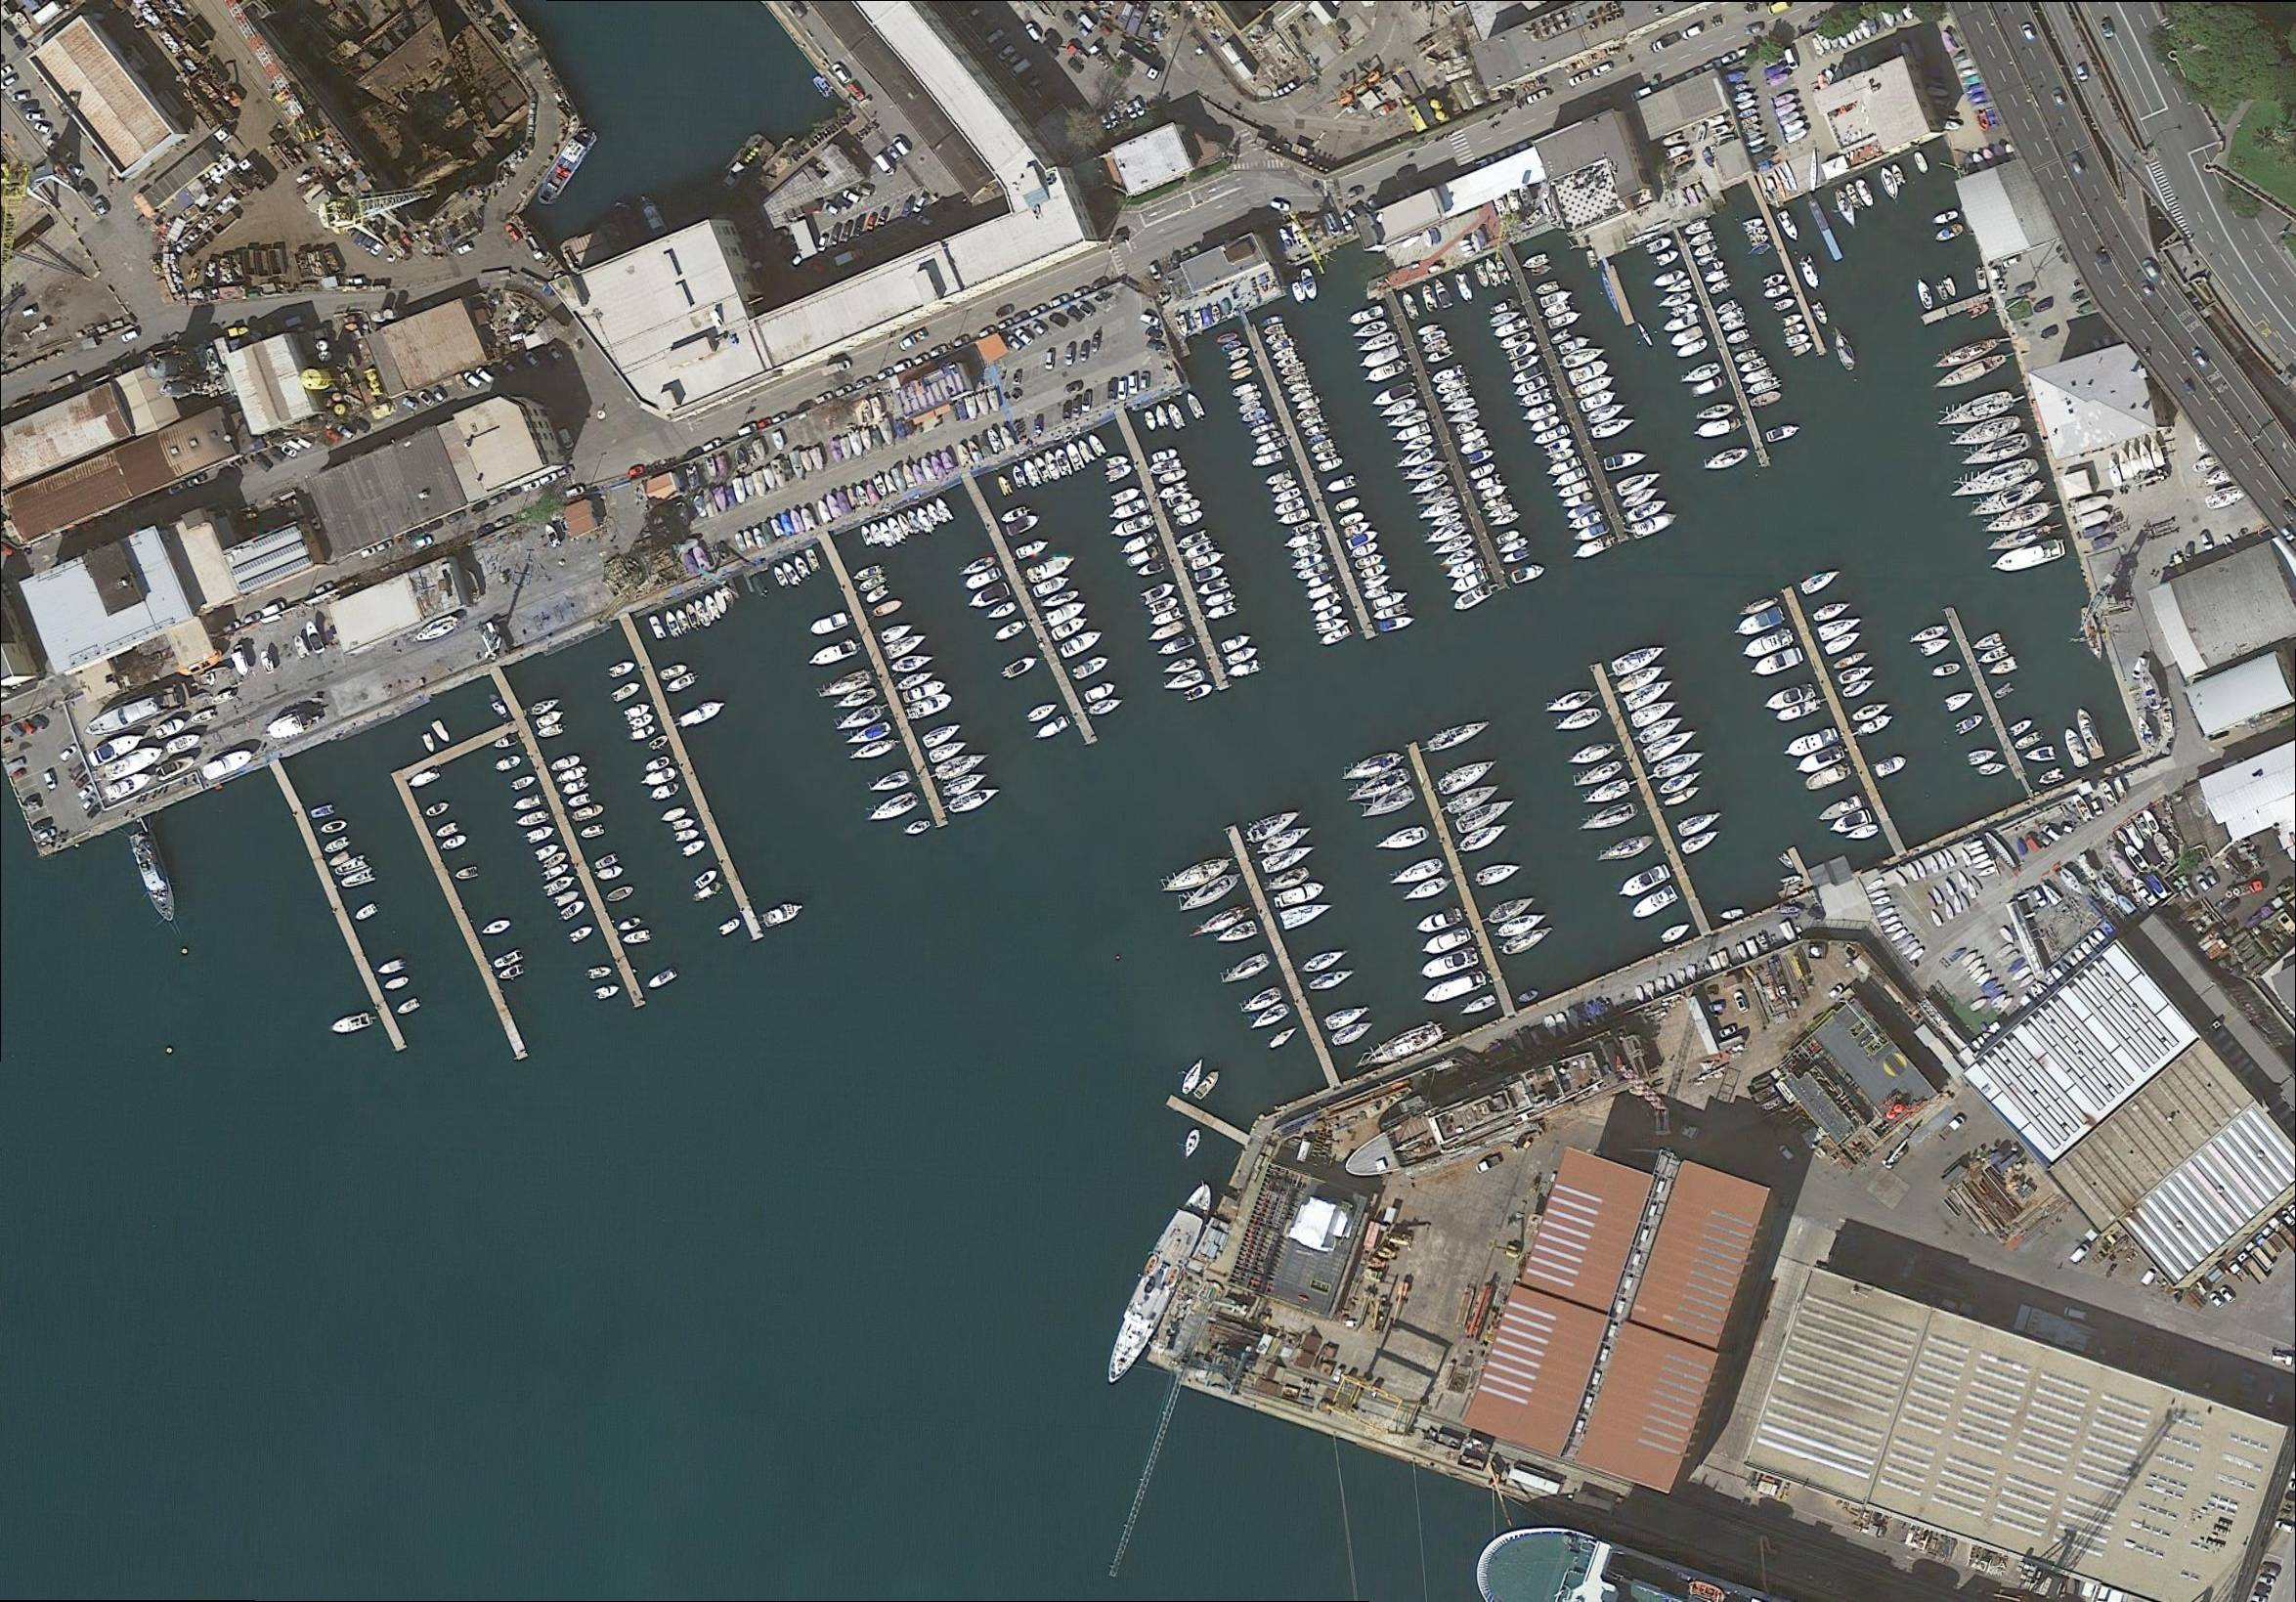harbor: (490, 668, 646, 1007), (619, 616, 764, 939), (1237, 314, 1378, 639), (267, 759, 407, 1051), (391, 771, 527, 1061), (813, 534, 946, 827), (1382, 290, 1511, 590), (1499, 248, 1628, 541), (961, 476, 1101, 745), (1774, 586, 1909, 855), (1586, 660, 1713, 939), (1401, 742, 1521, 1019), (1221, 827, 1343, 1092), (1115, 412, 1230, 688), (1670, 230, 1771, 466), (1937, 609, 2043, 803), (1746, 176, 1828, 354), (1165, 1094, 1247, 1148), (1921, 291, 1994, 326)
large vehicle: (1115, 45, 1165, 84), (2235, 1249, 2270, 1286), (1937, 1112, 1968, 1145), (2244, 1241, 2275, 1274), (42, 134, 77, 164), (2259, 1225, 2291, 1255), (1089, 44, 1118, 73), (832, 246, 865, 270), (818, 358, 853, 380), (2252, 1234, 2279, 1262), (1474, 1152, 1504, 1176), (1064, 40, 1090, 66), (2226, 1258, 2249, 1283)
ship: (1319, 1017, 1673, 1199), (1083, 1167, 1230, 1401), (119, 815, 187, 935), (79, 679, 195, 742), (1350, 1012, 1452, 1078), (532, 124, 604, 213), (1944, 452, 2050, 510), (1930, 382, 2031, 438), (1961, 469, 2059, 527), (1928, 346, 2019, 398), (1954, 424, 2043, 476), (1158, 848, 1235, 904), (1926, 326, 2013, 375), (1978, 494, 2066, 543), (1985, 534, 2074, 581), (1446, 789, 1523, 843), (1945, 410, 2029, 457), (1982, 517, 2071, 560), (1417, 967, 1492, 1017), (1417, 712, 1493, 761), (1431, 752, 1506, 801), (1570, 794, 1645, 843), (1333, 743, 1408, 792), (1185, 899, 1256, 948), (1174, 869, 1244, 918), (96, 740, 171, 785), (1343, 764, 1415, 811), (263, 698, 331, 747), (1593, 825, 1661, 874), (930, 740, 1000, 787), (1240, 798, 1310, 845), (1640, 719, 1706, 768), (860, 784, 928, 831), (1356, 784, 1424, 831), (1439, 775, 1506, 822), (1488, 902, 1555, 948), (1616, 859, 1677, 907), (1249, 817, 1317, 860), (1736, 621, 1799, 668), (1649, 740, 1712, 787), (1275, 893, 1340, 939), (1467, 852, 1532, 897), (84, 728, 150, 771), (1214, 949, 1277, 995), (1605, 639, 1673, 681), (195, 743, 262, 785), (1417, 946, 1483, 988), (1481, 887, 1542, 932), (2071, 698, 2111, 766), (813, 665, 878, 707), (1373, 820, 1438, 862), (1455, 817, 1516, 860), (1497, 920, 1558, 963), (1619, 674, 1680, 717), (1788, 742, 1851, 784), (1628, 881, 1684, 928), (1539, 681, 1602, 722), (1324, 1012, 1382, 1058), (1727, 604, 1792, 644), (1385, 853, 1450, 893), (1302, 958, 1361, 1002), (1568, 756, 1628, 799), (1270, 874, 1331, 916), (1256, 838, 1317, 880), (1746, 646, 1807, 688), (946, 780, 1008, 820), (1561, 735, 1624, 775), (1624, 504, 1684, 546), (1021, 546, 1080, 588), (1293, 941, 1354, 981), (1548, 700, 1609, 740), (1394, 874, 1457, 913), (1577, 775, 1637, 815), (2074, 600, 2109, 668), (1759, 681, 1820, 719), (1406, 904, 1467, 942), (101, 766, 159, 806), (408, 607, 466, 647), (1317, 996, 1375, 1037), (1232, 982, 1289, 1023), (1633, 709, 1691, 749), (1626, 693, 1684, 733), (1781, 726, 1844, 763), (804, 637, 864, 675), (830, 700, 890, 738), (1797, 761, 1856, 799), (1415, 925, 1474, 963), (1614, 661, 1673, 700), (1263, 859, 1317, 900), (672, 695, 728, 735), (1673, 803, 1729, 843), (1813, 791, 1870, 829), (939, 766, 998, 803), (1814, 606, 1869, 646), (1586, 410, 1642, 448), (1609, 464, 1664, 503), (757, 893, 808, 935), (1654, 763, 1712, 799), (963, 576, 1015, 616), (1056, 625, 1110, 663), (1696, 442, 1755, 476), (1207, 918, 1263, 955), (1446, 579, 1499, 618), (1260, 1021, 1309, 1061), (841, 717, 897, 752), (904, 689, 960, 724), (848, 733, 904, 768), (1794, 564, 1844, 602), (914, 717, 967, 754), (1244, 1000, 1296, 1037), (1561, 354, 1616, 389), (1555, 340, 1609, 375), (864, 766, 918, 801), (923, 733, 974, 770), (2057, 722, 2094, 773), (1366, 377, 1418, 412), (899, 674, 951, 709), (2132, 660, 2167, 712), (1581, 396, 1635, 429), (1043, 595, 1092, 632), (881, 628, 930, 665), (1028, 709, 1076, 745), (1827, 181, 1862, 232), (1773, 696, 1828, 728), (1568, 370, 1621, 403), (1354, 340, 1406, 373), (1104, 511, 1157, 544), (1068, 649, 1115, 686), (1689, 412, 1746, 442), (1399, 452, 1448, 487), (326, 1007, 380, 1038), (829, 684, 883, 715), (1568, 531, 1619, 564), (1619, 494, 1670, 527), (1827, 808, 1877, 841), (1734, 590, 1785, 623), (1188, 1063, 1227, 1106), (1391, 443, 1443, 475), (154, 749, 201, 784), (1085, 689, 1132, 724), (890, 646, 937, 681), (953, 548, 1000, 583), (1677, 356, 1725, 389), (1429, 529, 1478, 562), (1848, 695, 1896, 728), (1828, 321, 1858, 375), (1359, 356, 1410, 387), (1422, 517, 1473, 548), (1158, 667, 1209, 698), (1446, 565, 1492, 600), (1174, 1054, 1209, 1099), (1453, 989, 1499, 1024), (1809, 593, 1855, 628), (1406, 468, 1453, 501), (1678, 825, 1725, 859), (1596, 264, 1624, 319), (1415, 494, 1464, 525), (1616, 483, 1664, 515), (1183, 546, 1232, 578), (893, 663, 942, 695), (996, 651, 1040, 686), (1122, 541, 1167, 574), (1001, 508, 1047, 541), (986, 613, 1031, 646), (1823, 628, 1869, 661), (1574, 386, 1621, 417), (1441, 551, 1488, 583), (637, 761, 684, 792), (1143, 618, 1190, 649), (960, 564, 1007, 595), (1598, 445, 1650, 473), (1019, 696, 1061, 731), (1870, 750, 1912, 785), (1049, 613, 1092, 646), (1830, 644, 1874, 677), (1343, 298, 1389, 330), (1347, 312, 1392, 344), (1117, 527, 1162, 558), (1661, 782, 1706, 813), (2104, 843, 2139, 883), (1377, 394, 1424, 424), (1438, 541, 1481, 572), (1155, 632, 1199, 663), (1012, 534, 1056, 565), (1106, 497, 1151, 527), (1029, 572, 1075, 602), (806, 611, 851, 640), (1905, 620, 1951, 649), (541, 867, 581, 900), (1080, 677, 1120, 710), (1949, 707, 1989, 740), (1352, 328, 1399, 356), (150, 712, 192, 743), (1036, 585, 1083, 613), (1855, 712, 1896, 743), (1518, 398, 1561, 428), (1670, 333, 1713, 363), (1687, 372, 1731, 401), (1551, 330, 1595, 359), (1197, 585, 1240, 614), (1841, 822, 1884, 852), (1413, 482, 1459, 510), (1389, 419, 1434, 447), (1158, 653, 1204, 681), (1303, 590, 1349, 618), (1214, 628, 1254, 660), (1174, 524, 1214, 555), (876, 616, 916, 647), (1657, 918, 1698, 949), (1530, 421, 1572, 450), (1647, 262, 1689, 291), (1534, 283, 1575, 312), (162, 728, 204, 757), (1136, 579, 1178, 609), (1221, 640, 1263, 670), (1317, 623, 1359, 653), (1492, 314, 1535, 342), (1664, 321, 1708, 349), (1385, 405, 1429, 433), (338, 864, 382, 892), (1145, 606, 1188, 633), (1225, 656, 1268, 684), (1296, 262, 1324, 305), (2132, 712, 2160, 756), (1300, 578, 1343, 606), (1940, 684, 1977, 717), (2120, 839, 2153, 876), (1691, 398, 1739, 422), (1548, 462, 1588, 492), (405, 763, 445, 792), (1841, 674, 1881, 703), (1514, 384, 1556, 412), (1542, 452, 1584, 480), (1563, 508, 1605, 536), (1652, 286, 1694, 314), (1659, 307, 1701, 335), (1542, 305, 1584, 333), (529, 705, 571, 733), (1762, 421, 1804, 448), (1295, 557, 1336, 585), (984, 595, 1021, 626), (1289, 548, 1333, 574), (1773, 204, 1802, 243), (687, 874, 726, 904), (1179, 679, 1218, 709), (1511, 372, 1551, 400), (1527, 410, 1567, 438), (1874, 161, 1902, 201), (333, 852, 373, 880), (1143, 593, 1183, 621), (1132, 558, 1172, 586), (1097, 462, 1138, 490), (1179, 539, 1220, 567), (897, 815, 937, 843), (1837, 660, 1877, 688), (194, 661, 234, 689), (1370, 585, 1410, 613), (1281, 529, 1326, 553), (2053, 864, 2087, 897), (1506, 361, 1548, 387), (1797, 250, 1823, 291), (555, 893, 590, 925), (302, 616, 328, 658), (1202, 599, 1244, 625), (1165, 496, 1207, 522), (994, 501, 1036, 527), (1251, 433, 1293, 459), (663, 668, 701, 696), (489, 946, 527, 974), (1106, 482, 1145, 510), (1343, 525, 1382, 553), (1192, 576, 1235, 600), (1453, 267, 1479, 307), (1500, 339, 1541, 365), (1486, 304, 1527, 330), (1506, 560, 1546, 586), (1570, 518, 1610, 544), (1148, 455, 1188, 482), (1188, 562, 1228, 588), (530, 836, 565, 866), (609, 675, 644, 705), (1429, 274, 1457, 311), (1647, 246, 1684, 274), (1425, 508, 1467, 532), (1397, 433, 1439, 457), (1931, 218, 1968, 246), (553, 761, 595, 785), (1851, 173, 1879, 209), (644, 963, 680, 991), (869, 595, 905, 623), (2010, 726, 2047, 754), (1429, 359, 1467, 386), (1563, 497, 1602, 524), (647, 778, 686, 804), (546, 749, 584, 775), (229, 640, 255, 679), (1157, 476, 1195, 503), (1340, 515, 1378, 541), (874, 412, 900, 450), (509, 804, 553, 827), (2129, 878, 2160, 909), (1555, 476, 1595, 501), (1434, 372, 1474, 396), (1439, 393, 1479, 417), (1912, 274, 1937, 314), (1275, 504, 1315, 529), (1640, 232, 1675, 260), (420, 796, 455, 824), (525, 693, 562, 719), (438, 829, 475, 855), (1162, 489, 1199, 515), (1985, 654, 2022, 681), (1963, 743, 1999, 770), (1289, 391, 1326, 417), (1267, 475, 1303, 501), (1443, 405, 1485, 428), (1373, 599, 1415, 621), (1377, 613, 1418, 635), (1481, 291, 1520, 316), (1560, 487, 1598, 511), (850, 560, 888, 585), (1916, 635, 1954, 660), (1179, 1124, 1204, 1162), (1748, 387, 1787, 412), (1272, 494, 1310, 518), (691, 593, 715, 632), (1322, 471, 1361, 496), (1302, 567, 1340, 592), (2142, 871, 2174, 900), (677, 834, 712, 860), (619, 696, 654, 722), (539, 857, 574, 883), (1183, 387, 1209, 422), (1841, 178, 1867, 213), (487, 688, 513, 722), (862, 583, 897, 609), (644, 609, 670, 644), (1263, 464, 1298, 490), (1288, 541, 1328, 564), (1309, 602, 1349, 625), (1312, 614, 1352, 637), (1506, 351, 1542, 375), (1539, 435, 1575, 459), (1478, 490, 1514, 515), (1516, 248, 1553, 272), (522, 820, 558, 845), (1164, 396, 1188, 433), (623, 709, 659, 733), (1171, 508, 1207, 532), (1970, 630, 2006, 654), (1064, 438, 1089, 475), (912, 501, 937, 537), (565, 918, 597, 946), (1743, 375, 1785, 396), (567, 801, 605, 824), (476, 916, 515, 939), (661, 606, 684, 644), (591, 977, 625, 1003), (431, 817, 464, 843), (429, 714, 455, 747), (2003, 712, 2036, 738), (1687, 225, 1720, 251), (1417, 279, 1441, 314), (1422, 342, 1457, 366), (1464, 459, 1499, 483), (1488, 506, 1523, 531), (1659, 274, 1694, 298), (495, 962, 530, 986), (604, 881, 639, 906), (1021, 457, 1045, 492), (1282, 373, 1317, 398), (886, 511, 911, 546), (1331, 492, 1366, 517), (953, 438, 977, 473), (1239, 403, 1274, 428), (691, 541, 715, 576), (1249, 448, 1289, 469), (1399, 286, 1422, 323), (1497, 328, 1534, 351), (509, 791, 546, 813), (534, 719, 571, 742), (1741, 365, 1778, 387), (1270, 485, 1307, 508), (1286, 384, 1322, 407), (1296, 410, 1333, 433), (1361, 571, 1397, 593), (1288, 517, 1324, 539), (728, 469, 750, 506), (691, 864, 719, 893), (2074, 853, 2102, 883), (551, 885, 583, 911), (2122, 820, 2148, 852), (1478, 480, 1511, 504), (1471, 469, 1504, 494), (1459, 433, 1492, 457), (2034, 763, 2067, 787), (1977, 640, 2010, 665), (2071, 792, 2095, 825), (1705, 274, 1738, 298), (1720, 314, 1753, 339), (932, 494, 956, 527), (1085, 428, 1110, 461), (1336, 506, 1370, 531), (1228, 377, 1261, 401), (1471, 257, 1493, 291), (1462, 445, 1497, 468), (1528, 274, 1563, 297), (490, 729, 525, 752), (558, 777, 593, 799), (640, 752, 675, 775), (375, 955, 410, 977), (1155, 468, 1190, 490), (1052, 443, 1075, 478), (1042, 448, 1064, 483), (1300, 419, 1335, 442), (1305, 435, 1340, 457), (768, 455, 790, 490), (2095, 880, 2123, 907), (351, 899, 380, 925), (1544, 445, 1581, 466), (492, 750, 523, 775), (590, 848, 621, 873), (623, 721, 659, 742), (290, 632, 314, 663), (321, 832, 352, 857), (2097, 780, 2122, 811), (1717, 304, 1748, 328), (1736, 354, 1773, 375), (780, 557, 804, 588), (1350, 539, 1382, 564), (867, 469, 892, 501), (984, 426, 1008, 457), (1481, 255, 1504, 288), (1483, 501, 1516, 524), (658, 803, 691, 825), (256, 646, 279, 679), (857, 572, 890, 595), (701, 590, 724, 623), (1031, 454, 1054, 487), (1293, 403, 1326, 426), (998, 419, 1021, 452), (1237, 394, 1270, 417), (797, 501, 820, 534), (687, 490, 710, 524), (785, 448, 808, 482), (832, 485, 855, 518), (1495, 534, 1530, 555), (1499, 544, 1534, 565), (656, 660, 691, 681), (1930, 660, 1965, 681), (878, 517, 899, 551), (1364, 581, 1399, 602), (1359, 562, 1394, 583), (1354, 551, 1389, 572), (951, 393, 972, 428), (1247, 419, 1282, 440), (1251, 426, 1286, 447), (823, 489, 844, 524), (541, 848, 571, 873), (393, 993, 422, 1017), (1940, 272, 1965, 302), (605, 656, 637, 679), (1909, 145, 1931, 176), (614, 911, 646, 934), (1732, 346, 1764, 368), (1692, 239, 1724, 262), (923, 497, 946, 529), (790, 551, 813, 583), (769, 562, 792, 593), (1076, 435, 1099, 466), (1288, 276, 1310, 307), (963, 435, 986, 466), (860, 476, 883, 508), (888, 462, 911, 494), (1228, 363, 1260, 386), (679, 550, 701, 581), (757, 518, 780, 550), (1418, 335, 1452, 356), (1455, 424, 1488, 445), (1441, 384, 1474, 405), (666, 811, 700, 832), (318, 815, 351, 836), (1928, 206, 1961, 227), (1148, 445, 1181, 466), (682, 599, 703, 632), (1310, 445, 1343, 466), (928, 448, 949, 482), (918, 454, 939, 487), (984, 380, 1005, 414), (974, 386, 994, 419), (1235, 387, 1268, 408), (787, 506, 808, 539), (700, 485, 721, 518), (710, 482, 731, 515), (717, 913, 743, 939), (808, 75, 834, 101), (1809, 298, 1832, 328), (1413, 316, 1443, 339), (541, 522, 564, 551), (1694, 248, 1724, 270), (1270, 344, 1300, 366), (801, 546, 823, 576), (867, 424, 890, 454), (680, 461, 703, 490), (1225, 354, 1254, 377), (670, 497, 693, 527), (963, 389, 982, 424), (846, 424, 865, 459), (508, 771, 539, 792), (595, 860, 626, 881), (1101, 450, 1132, 471), (1724, 326, 1755, 347), (1760, 281, 1792, 302), (1277, 359, 1309, 380), (1281, 366, 1312, 387), (673, 606, 694, 637), (897, 508, 918, 539), (975, 429, 996, 461), (808, 442, 829, 473), (776, 510, 797, 541), (2113, 892, 2137, 918), (1254, 311, 1288, 330), (326, 846, 354, 869), (1713, 295, 1741, 318), (1492, 527, 1521, 548), (577, 820, 607, 841), (1139, 405, 1160, 435), (672, 824, 701, 845), (307, 799, 337, 820), (188, 705, 218, 726), (1888, 157, 1909, 187), (382, 972, 412, 993), (994, 469, 1015, 499), (1267, 335, 1296, 356), (1760, 269, 1790, 290), (1315, 454, 1345, 475), (843, 482, 864, 511), (836, 431, 857, 461), (1213, 326, 1242, 347), (729, 527, 750, 557), (1973, 759, 2008, 777), (1010, 461, 1029, 492), (565, 791, 597, 810), (452, 864, 483, 883), (2026, 743, 2057, 763), (712, 585, 731, 616), (858, 424, 878, 455), (714, 448, 733, 480), (748, 522, 768, 553), (750, 466, 769, 497), (761, 461, 780, 492), (799, 445, 818, 476), (2139, 810, 2163, 834), (419, 728, 440, 756), (1701, 265, 1729, 286), (1275, 351, 1303, 372), (1684, 216, 1712, 237), (1738, 215, 1766, 236), (1788, 340, 1816, 361), (857, 524, 878, 551), (748, 435, 769, 462), (621, 928, 654, 946), (1417, 326, 1446, 346), (209, 688, 239, 707), (905, 506, 925, 536), (701, 452, 721, 482), (827, 436, 846, 466), (815, 496, 834, 525), (583, 962, 614, 979), (646, 731, 672, 752), (2132, 817, 2153, 843), (1225, 342, 1251, 363), (1453, 417, 1481, 436), (1971, 264, 1991, 291), (1783, 332, 1811, 351), (1771, 295, 1799, 314), (721, 581, 740, 609), (867, 520, 886, 548), (853, 480, 872, 508), (911, 459, 930, 487), (939, 445, 958, 473), (731, 445, 750, 473), (1780, 321, 1809, 339), (900, 461, 918, 490), (1732, 991, 1752, 1017), (1780, 311, 1806, 330), (769, 426, 789, 452), (1265, 328, 1293, 346), (1745, 232, 1773, 250), (881, 468, 899, 496), (2111, 777, 2130, 801), (1220, 337, 1244, 356), (768, 517, 787, 541), (1260, 321, 1289, 337), (741, 469, 757, 499), (1153, 403, 1171, 429), (740, 525, 757, 551), (2221, 534, 2240, 557), (1743, 223, 1767, 241), (2162, 710, 2177, 736), (1935, 279, 1951, 304)
small vehicle: (2149, 832, 2179, 866), (897, 328, 930, 353), (1650, 30, 1682, 54), (258, 599, 288, 621), (829, 61, 853, 87), (872, 152, 897, 178), (2067, 1241, 2092, 1267), (1075, 7, 1099, 33), (1567, 70, 1595, 91), (1322, 211, 1343, 239), (843, 80, 867, 103), (2139, 257, 2162, 281), (311, 579, 337, 600), (1781, 45, 1802, 72), (1525, 87, 1551, 108), (803, 258, 830, 277), (890, 134, 912, 157), (2190, 347, 2212, 370), (555, 428, 577, 450), (473, 365, 497, 386), (2066, 152, 2087, 176), (502, 222, 523, 246), (1138, 311, 1164, 330), (28, 815, 54, 834), (2062, 1305, 2090, 1323), (1012, 326, 1035, 347), (1003, 333, 1026, 354), (2041, 824, 2064, 845), (2193, 873, 2216, 893), (1010, 58, 1033, 79), (1042, 30, 1064, 51), (492, 513, 516, 532), (564, 483, 590, 501), (522, 349, 543, 370), (79, 178, 99, 199), (984, 26, 1005, 47), (1040, 42, 1061, 63), (412, 532, 434, 551), (883, 145, 905, 164), (1049, 311, 1071, 330), (2097, 19, 2116, 42), (1024, 21, 1043, 44), (1630, 86, 1654, 103), (1766, 0, 1790, 17), (1680, 24, 1705, 42), (1268, 197, 1293, 215), (832, 194, 853, 213), (59, 743, 79, 764), (1075, 300, 1096, 319), (1028, 319, 1049, 339), (853, 373, 874, 393), (2024, 834, 2043, 855), (1776, 1143, 1795, 1164), (2139, 1267, 2158, 1288), (2217, 1286, 2238, 1305), (91, 197, 110, 218), (996, 42, 1017, 61), (963, 5, 984, 24), (119, 328, 141, 346), (335, 424, 358, 442), (537, 469, 560, 487), (445, 508, 468, 525), (422, 517, 445, 534), (403, 525, 426, 543), (841, 188, 864, 206), (185, 473, 208, 490), (1049, 291, 1071, 309), (21, 798, 44, 815), (37, 825, 59, 843), (626, 462, 649, 480), (701, 436, 724, 454), (736, 422, 759, 440), (832, 382, 855, 400), (3, 757, 28, 773), (7, 766, 31, 782), (1741, 21, 1766, 37), (1591, 61, 1616, 77), (771, 229, 790, 248), (417, 389, 436, 408), (80, 792, 99, 811), (464, 372, 483, 391), (1059, 10, 1078, 30), (1024, 77, 1043, 96), (489, 490, 509, 508), (471, 499, 492, 517), (548, 344, 565, 365), (1064, 305, 1085, 323), (1146, 337, 1167, 354), (475, 522, 495, 539), (769, 408, 790, 426), (813, 389, 834, 407), (914, 213, 935, 230), (2198, 531, 2216, 551), (2050, 87, 2067, 108), (2202, 866, 2219, 887), (2209, 1291, 2226, 1312), (1719, 51, 1739, 68), (1122, 101, 1139, 122), (1001, 52, 1022, 70), (1345, 183, 1366, 201), (853, 183, 876, 199), (166, 482, 188, 497), (44, 770, 59, 792), (977, 325, 1000, 340), (928, 344, 951, 359), (220, 620, 243, 635), (682, 447, 705, 462), (1717, 1024, 1739, 1040), (1090, 330, 1104, 354), (522, 478, 541, 496), (31, 714, 51, 731), (68, 763, 85, 782), (351, 417, 370, 435), (499, 359, 518, 377), (1828, 982, 1846, 1002), (2139, 279, 2156, 298), (2020, 23, 2038, 42), (455, 241, 475, 258), (1066, 58, 1085, 75), (822, 202, 843, 218), (400, 396, 420, 412), (892, 359, 912, 375), (2074, 63, 2090, 84), (65, 162, 85, 178), (829, 225, 843, 248), (2273, 1520, 2296, 1534), (2258, 1564, 2280, 1578), (19, 719, 37, 736), (85, 803, 103, 820), (77, 784, 94, 801), (2279, 1209, 2296, 1227), (2, 73, 19, 91), (325, 428, 344, 443), (281, 443, 300, 459), (7, 722, 26, 738), (899, 199, 914, 218), (912, 195, 928, 215), (1010, 309, 1029, 325), (953, 332, 972, 347), (1132, 98, 1148, 117), (1028, 302, 1049, 316), (1145, 326, 1165, 340), (911, 353, 932, 366), (241, 611, 262, 625), (874, 366, 895, 380), (31, 120, 52, 134), (1148, 262, 1162, 283), (1117, 379, 1129, 401), (755, 417, 773, 433), (2036, 832, 2053, 848), (2088, 799, 2104, 817), (370, 241, 386, 258), (1075, 23, 1092, 38), (375, 539, 394, 553), (839, 223, 853, 243), (1090, 277, 1110, 291), (817, 234, 830, 253), (2258, 1574, 2277, 1588), (1099, 112, 1113, 131), (1108, 108, 1122, 127), (1340, 215, 1354, 234), (853, 218, 865, 239), (10, 91, 31, 103), (75, 775, 91, 791), (433, 387, 448, 403), (359, 546, 377, 560), (1073, 284, 1090, 298), (878, 209, 890, 229), (2254, 1583, 2273, 1595), (1045, 351, 1056, 372), (1705, 1003, 1725, 1014), (361, 237, 375, 253), (354, 232, 368, 248), (865, 215, 878, 232), (1082, 393, 1092, 412), (1080, 344, 1090, 363), (1141, 372, 1151, 391), (1129, 375, 1139, 394), (2184, 546, 2195, 565), (26, 112, 45, 122), (21, 101, 40, 112), (1066, 346, 1075, 368), (996, 318, 1012, 330), (1108, 380, 1117, 401), (1073, 400, 1082, 419), (1064, 403, 1073, 422), (1033, 419, 1042, 436)
